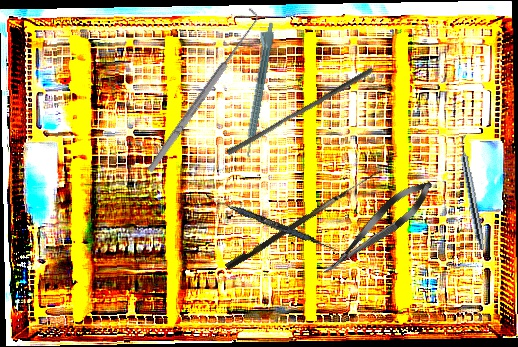Handpiece: (237, 20, 277, 159), (455, 134, 489, 251)
Hook Surgical: (138, 6, 266, 176), (224, 162, 382, 274)
Micro Scissor: (314, 172, 440, 284)
Pusher: (225, 61, 375, 161)
Spatula Surgical: (203, 194, 338, 252)
